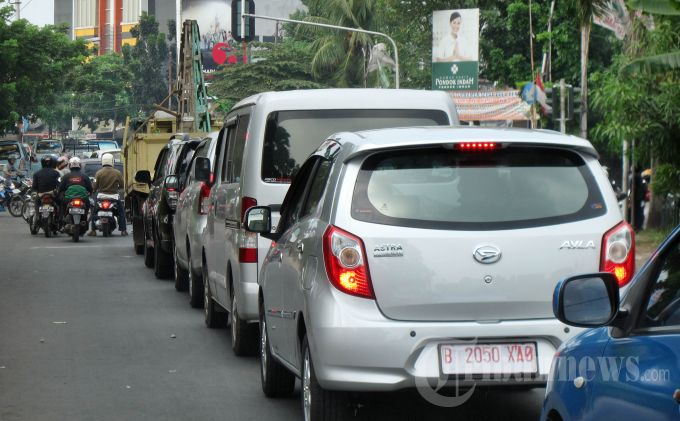plate: (440, 339, 539, 376), (68, 208, 84, 215), (38, 205, 52, 213), (98, 210, 111, 217)
